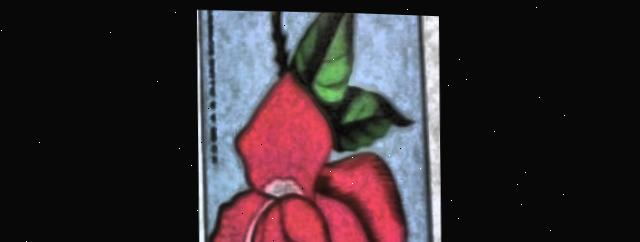La Rosa: (201, 8, 431, 242)
